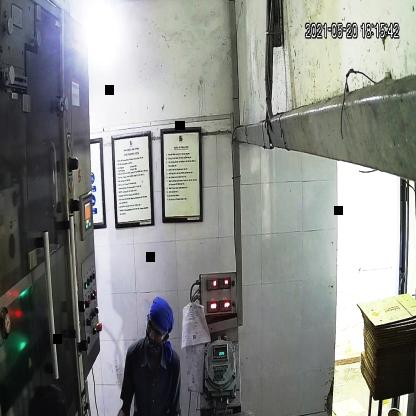goggles: (144, 318, 169, 343)
